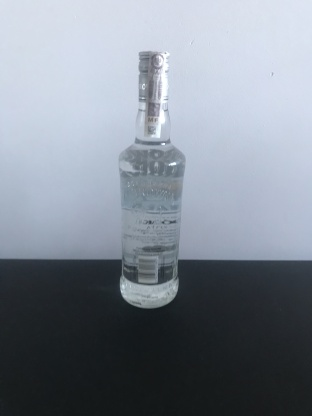nakretka: (135, 46, 172, 105)
